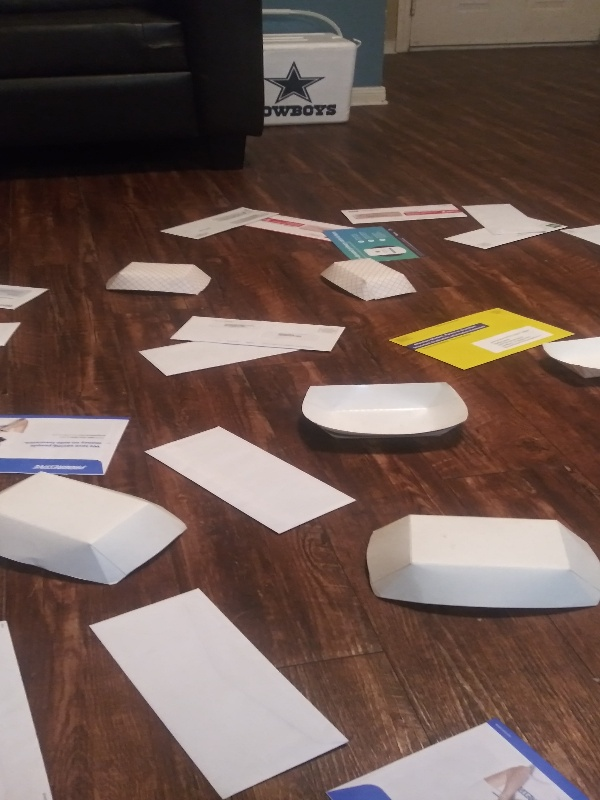plate: (362, 511, 600, 613), (1, 467, 196, 589), (293, 378, 472, 448), (311, 255, 421, 304), (100, 257, 215, 303), (532, 329, 600, 392)
